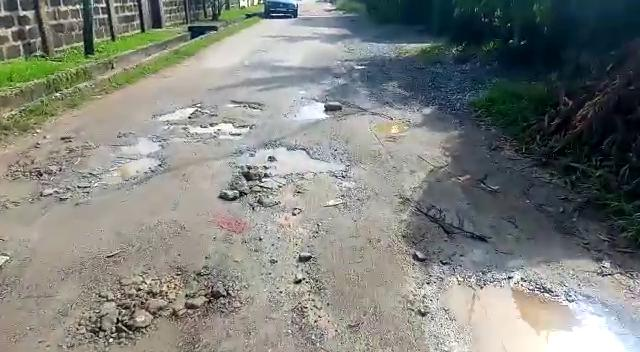pothole: (431, 278, 638, 352), (239, 142, 350, 173), (99, 157, 164, 186), (182, 119, 252, 137), (289, 96, 335, 121), (114, 134, 165, 153), (153, 105, 202, 123), (368, 117, 412, 137), (226, 98, 268, 111)
